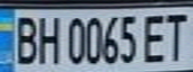0: (84, 12, 106, 65), (63, 12, 84, 65)
5: (118, 11, 142, 65)
6: (103, 12, 121, 65)
B: (9, 11, 42, 65)
E: (139, 11, 172, 64)
H: (33, 11, 63, 65)
T: (163, 9, 193, 63)
